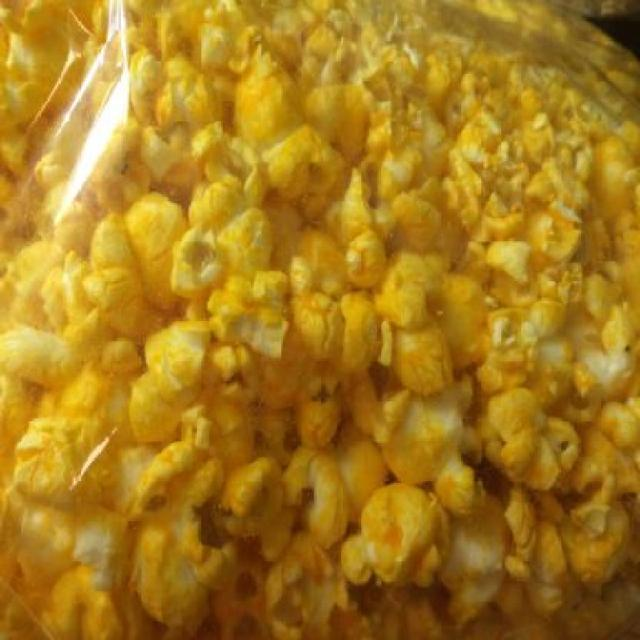Popcorn: (0, 8, 640, 636)
